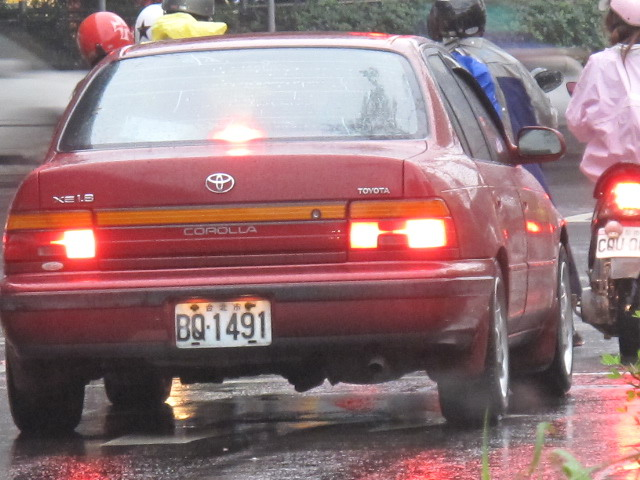plate: (173, 297, 273, 350), (595, 223, 637, 259)
